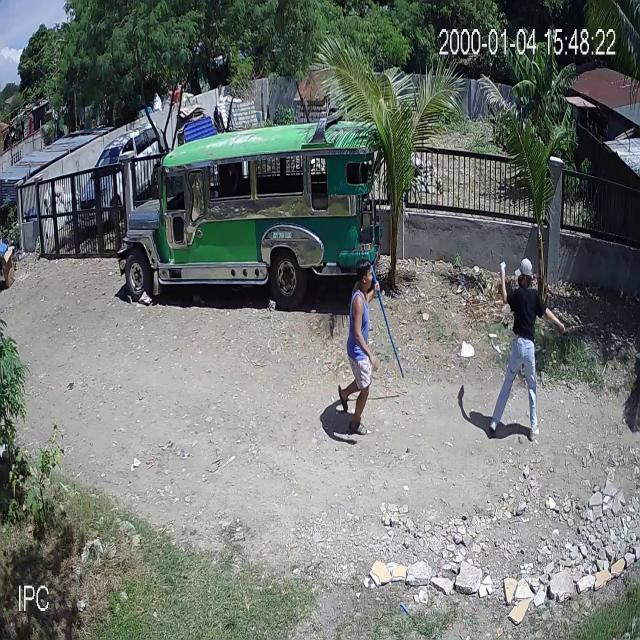running: (488, 258, 565, 439), (338, 260, 403, 433)
